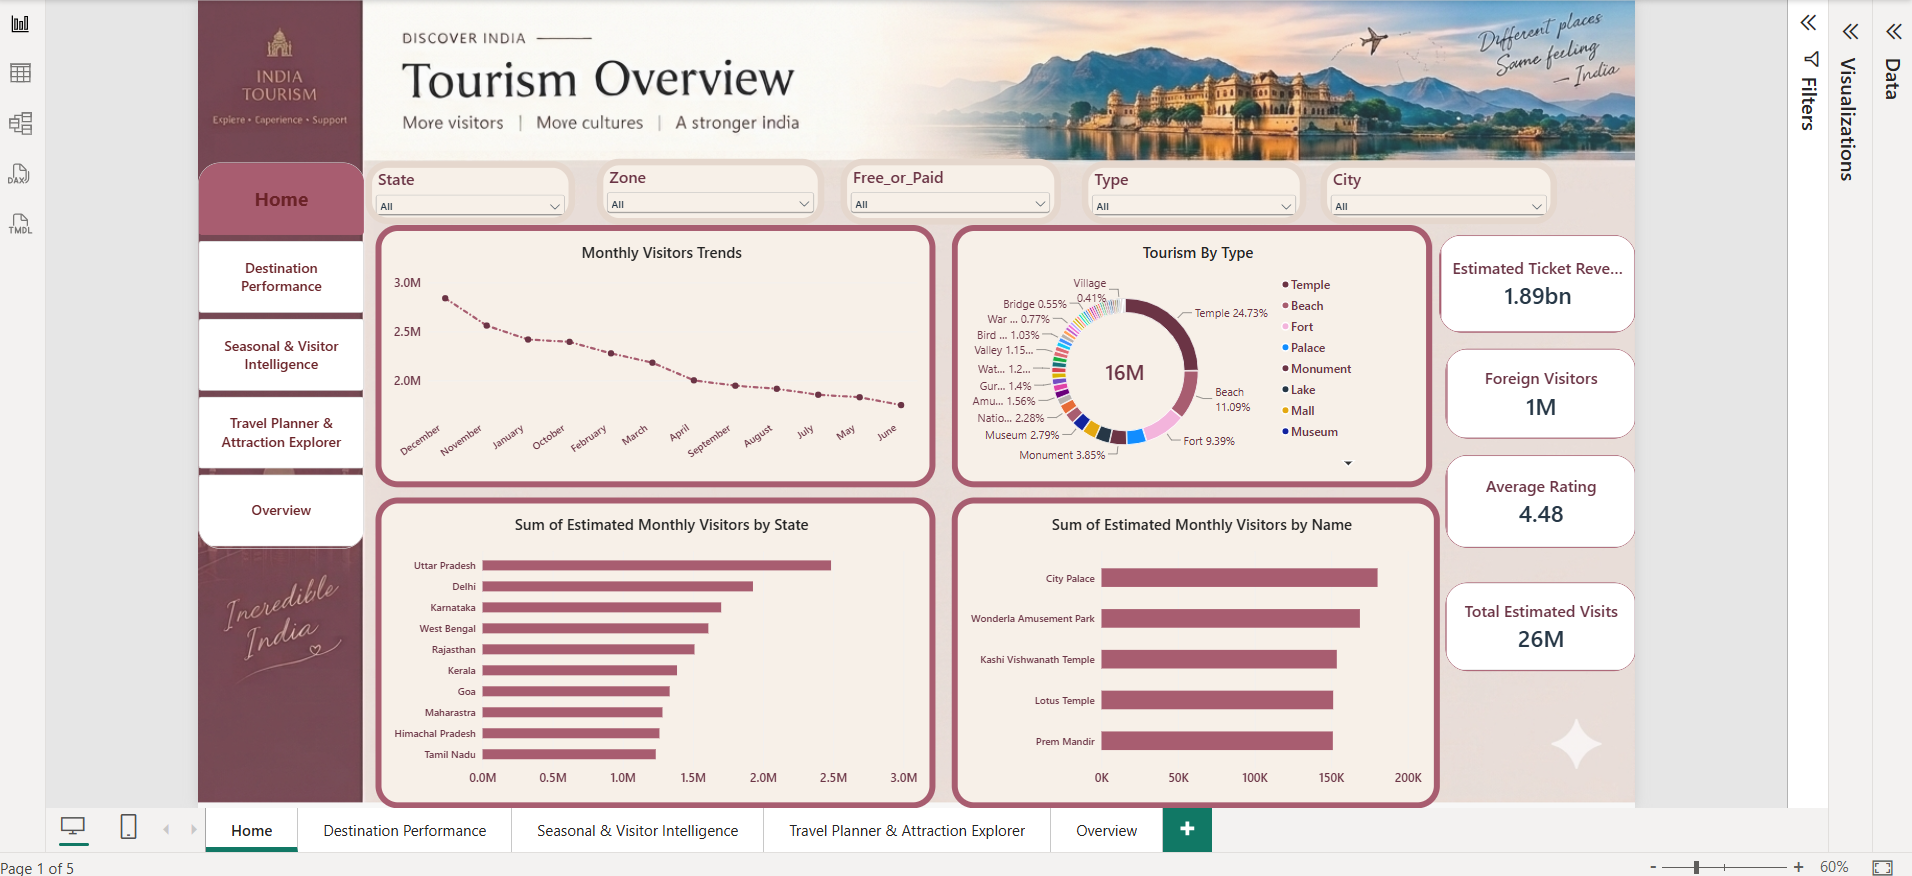

Layout of this report page (visuals, bound fields, positions):
{"tool":"powerbi","page":{"name":"Home","canvas":[1920,1080],"ordinal":0},"visuals":[{"type":"cardVisual","fields":{"Data":["Top_Indian_Places.Total Estimated Visits"]},"box":[1666,778,254,118],"z":0},{"type":"cardVisual","fields":{"Data":["Top_Indian_Places.Average Rating"]},"box":[1666,608,254,124],"z":1000},{"type":"cardVisual","fields":{"Data":["Top_Indian_Places.Estimated Ticket Revenue"]},"box":[1658,314,262,130],"z":2000},{"type":"slicer","fields":{"Values":["Top_Indian_Places.Zone"]},"box":[532,212,304,88],"z":3000},{"type":"slicer","fields":{"Values":["Top_Indian_Places.City"]},"box":[1500,216,316,84],"z":4000},{"type":"slicer","fields":{"Values":["Top_Indian_Places.State"]},"box":[224,216,280,84],"z":5000},{"type":"slicer","fields":{"Values":["Top_Indian_Places.Type"]},"box":[1180,216,300,84],"z":6000},{"type":"slicer","fields":{"Values":["Top_Indian_Places.Free_or_Paid"]},"box":[858,212,294,88],"z":7000},{"type":"donutChart","title":" Tourism By Type","fields":{"Category":["Top_Indian_Places.Type"],"Y":["Sum(Top_Indian_Places.Estimated Monthly Visitors)"]},"box":[1006.4,300,641.9,350.6],"z":8000},{"type":"barChart","fields":{"Category":["Top_Indian_Places.Name"],"Y":["Sum(Top_Indian_Places.Estimated Monthly Visitors)"]},"box":[1006.4,664.5,652.3,415.1],"z":9000},{"type":"barChart","fields":{"Category":["Top_Indian_Places.State"],"Y":["Sum(Top_Indian_Places.Estimated Monthly Visitors)"]},"box":[237.2,664.5,748.3,415.1],"z":10000},{"type":"cardVisual","fields":{"Data":["Top_Indian_Places.Foreign Visitors"]},"box":[1666,466,254,120],"z":13000},{"type":"lineChart","title":" Monthly Visitors Trends","fields":{"Category":["Top_Indian_Places.Month"],"Y":["Sum(Top_Indian_Places.Estimated Monthly Visitors)"]},"box":[237.2,300,748.3,350.6],"z":14000},{"type":"textbox","box":[150,81,300,150],"z":14001},{"type":"pageNavigator","box":[0,216.3,223.3,516.3],"z":14002}]}

Visuals, with their boxes on the page's 1920x1080 design canvas (x1, y1, x2, y2). These are canvas units, not pixel positions in the 1912x876 screenshot, which may show the page scaled, cropped or inside an application window:
cardVisual - Top_Indian_Places.Total Estimated Visits: [x1=1666, y1=778, x2=1920, y2=896]
cardVisual - Top_Indian_Places.Average Rating: [x1=1666, y1=608, x2=1920, y2=732]
cardVisual - Top_Indian_Places.Estimated Ticket Revenue: [x1=1658, y1=314, x2=1920, y2=444]
slicer - Top_Indian_Places.Zone: [x1=532, y1=212, x2=836, y2=300]
slicer - Top_Indian_Places.City: [x1=1500, y1=216, x2=1816, y2=300]
slicer - Top_Indian_Places.State: [x1=224, y1=216, x2=504, y2=300]
slicer - Top_Indian_Places.Type: [x1=1180, y1=216, x2=1480, y2=300]
slicer - Top_Indian_Places.Free_or_Paid: [x1=858, y1=212, x2=1152, y2=300]
" Tourism By Type" donutChart: [x1=1006, y1=300, x2=1648, y2=651]
barChart - Top_Indian_Places.Name x Sum(Top_Indian_Places.Estimated Monthly Visitors): [x1=1006, y1=664, x2=1659, y2=1080]
barChart - Top_Indian_Places.State x Sum(Top_Indian_Places.Estimated Monthly Visitors): [x1=237, y1=664, x2=986, y2=1080]
cardVisual - Top_Indian_Places.Foreign Visitors: [x1=1666, y1=466, x2=1920, y2=586]
" Monthly Visitors Trends" lineChart: [x1=237, y1=300, x2=986, y2=651]
textbox: [x1=150, y1=81, x2=450, y2=231]
pageNavigator: [x1=0, y1=216, x2=223, y2=733]
